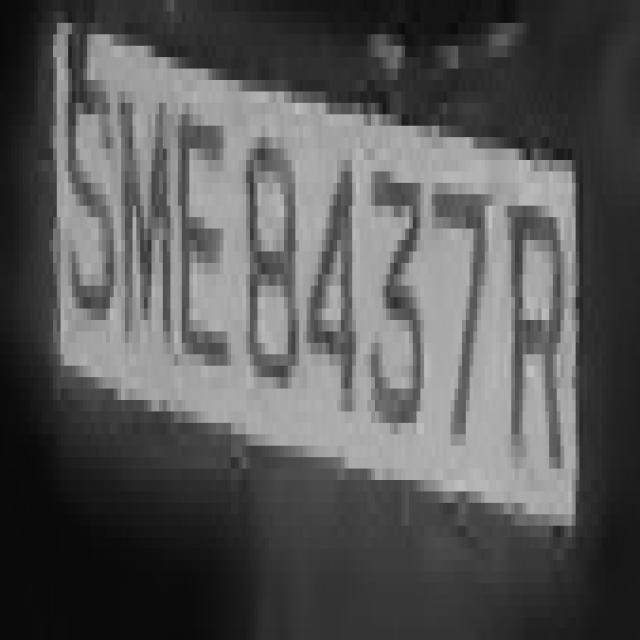3: (368, 137, 436, 492)
4: (314, 103, 356, 491)
7: (432, 80, 492, 480)
8: (235, 57, 307, 412)
E: (163, 80, 227, 423)
M: (118, 69, 166, 377)
R: (496, 137, 583, 526)
S: (57, 23, 117, 400)
